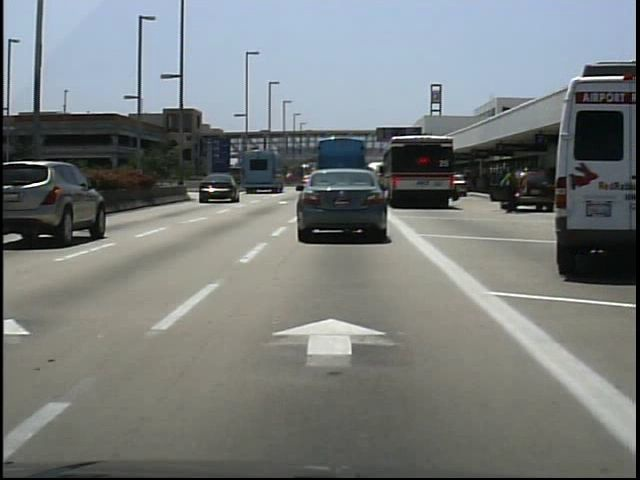person: (500, 165, 522, 217)
